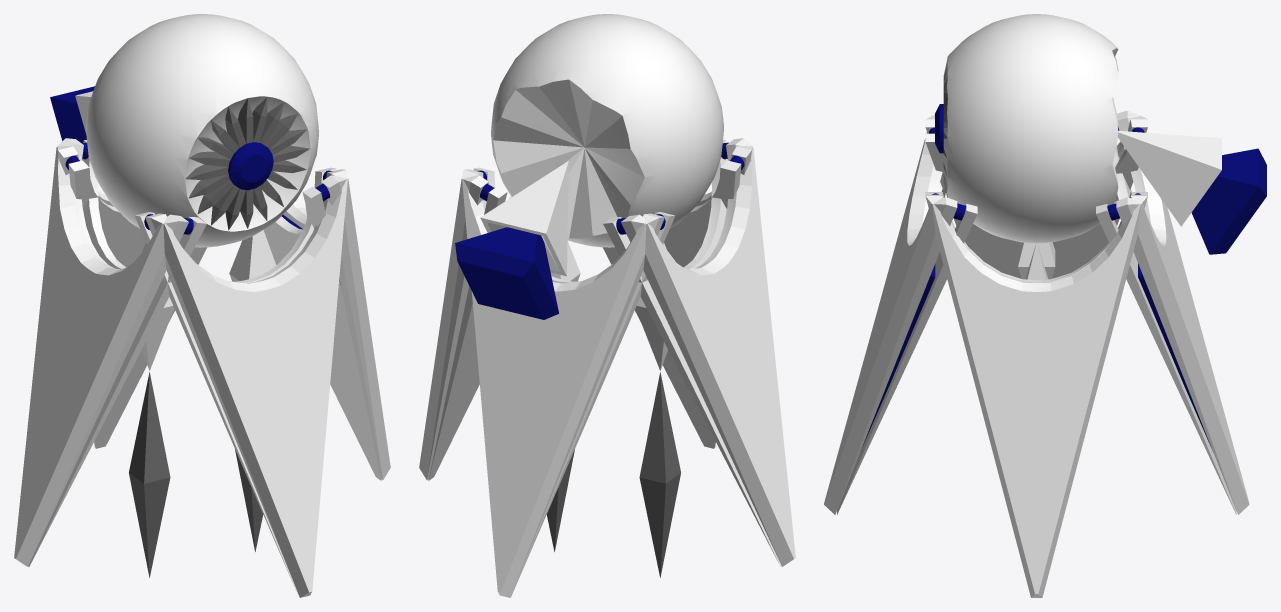
File: testPlayer.fbx
3 views of the same model, side by side, from view 1: azimuth 30°, elevation 25°; view 2: azimuth 150°, elevation 25°; view 3: azimuth 270°, elevation 25° (orthographic).
Parts seen in each view (by area): view 1: Satelite001, MainEye, Satelite004, Satelite003, Satelite002, FootR2, EyeOP1, FootL1, Pyramid015, FootR1, FootL2; view 2: MainEye, Satelite002, Satelite004, Satelite003, Pyramid015, osageSatelite, Satelite001, FootR2, FootL2, FootR1; view 3: Satelite003, MainEye, Satelite001, Satelite002, osageSatelite, Pyramid015, Satelite004, FootR1, Pyramid009, Pyramid007.
Boxes of the visible parts, box(x1,y1,x2,y2) form: Satelite001: box(134, 167, 347, 597); MainEye: box(86, 14, 318, 247); Satelite004: box(14, 138, 206, 566); Satelite003: box(263, 175, 390, 480); Satelite002: box(57, 145, 207, 448); FootR2: box(129, 372, 170, 577); EyeOP1: box(224, 142, 273, 190); FootL1: box(229, 230, 276, 281); Pyramid015: box(50, 86, 94, 142); FootR1: box(142, 243, 174, 370); FootL2: box(235, 449, 263, 551); MainEye: box(491, 14, 723, 247); Satelite002: box(462, 167, 675, 597); Satelite004: box(603, 138, 795, 566); Satelite003: box(419, 175, 511, 480); Pyramid015: box(455, 227, 558, 319); osageSatelite: box(480, 161, 568, 276); Satelite001: box(602, 145, 752, 448); FootR2: box(639, 372, 680, 577); FootL2: box(546, 449, 574, 551); FootR1: box(635, 243, 667, 370); Satelite003: box(925, 192, 1147, 597); MainEye: box(947, 14, 1118, 243); Satelite001: box(824, 115, 977, 514); Satelite002: box(1096, 110, 1249, 514); osageSatelite: box(1118, 130, 1221, 226); Pyramid015: box(1191, 148, 1266, 254); Satelite004: box(925, 116, 1147, 278); FootR1: box(1018, 242, 1055, 279); Pyramid009: box(1138, 263, 1212, 449); Pyramid007: box(861, 264, 935, 449).
Bounding box in the file's own units: 56.75 × 78.25 × 59.08.
Materials: 3 (3 with a texture image).
